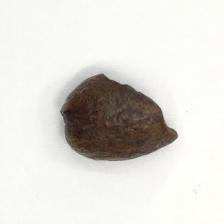NG: (99, 65, 184, 141)
